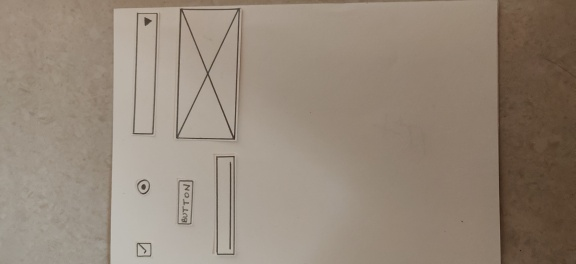button: (175, 183, 192, 224)
checkbox: (133, 241, 156, 257)
dropdown: (129, 10, 157, 136)
img: (177, 6, 239, 144)
radio: (135, 179, 153, 191)
text: (212, 154, 238, 256)
